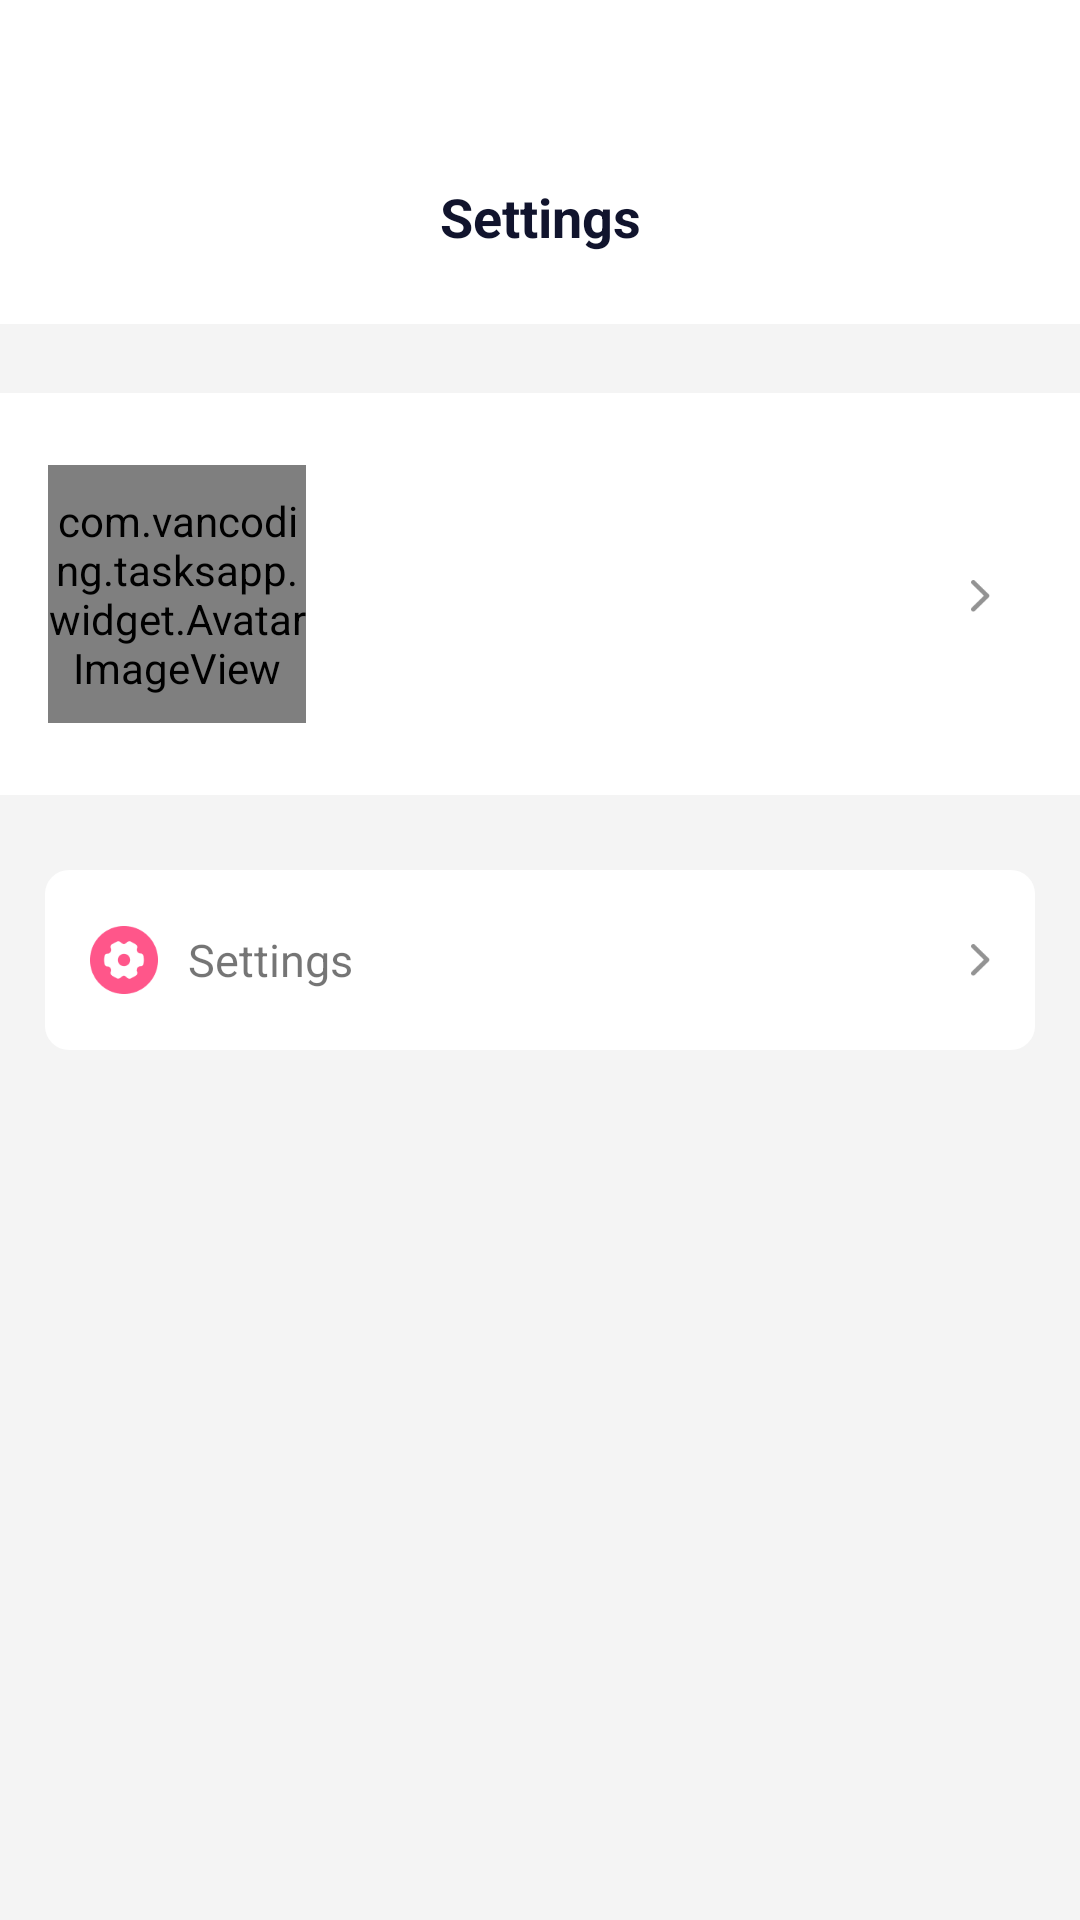

Where icons sit on this 1080x1920 app screen, as box(x1, y1, x2, y2):
mine setting: box(90, 926, 158, 994)
